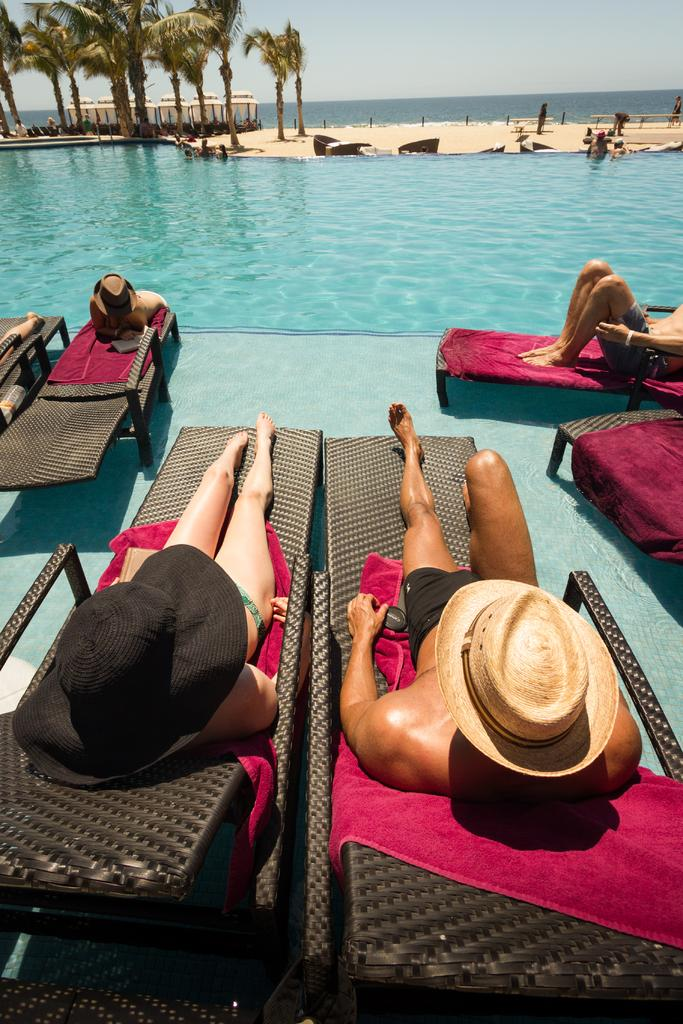Hat: (14, 540, 252, 790), (437, 581, 616, 781), (93, 267, 138, 323)
